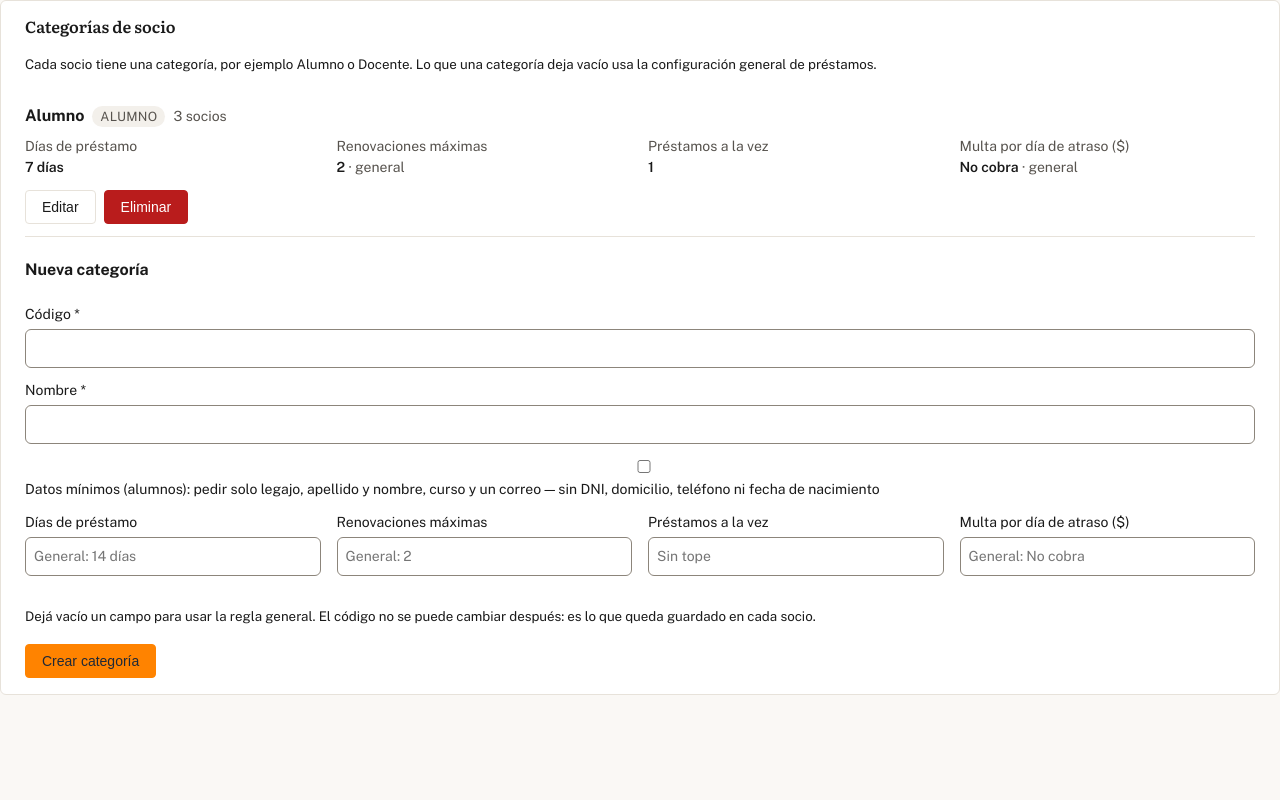
CategoriasSocios › no intenta borrar una categoría que tiene socios: explica qué hacer
Expected: the text "3 socios" is shown, [173,106,227,127]
Click the button with aria-label "Eliminar Alumno" at (146, 207), box [104,190,188,224]
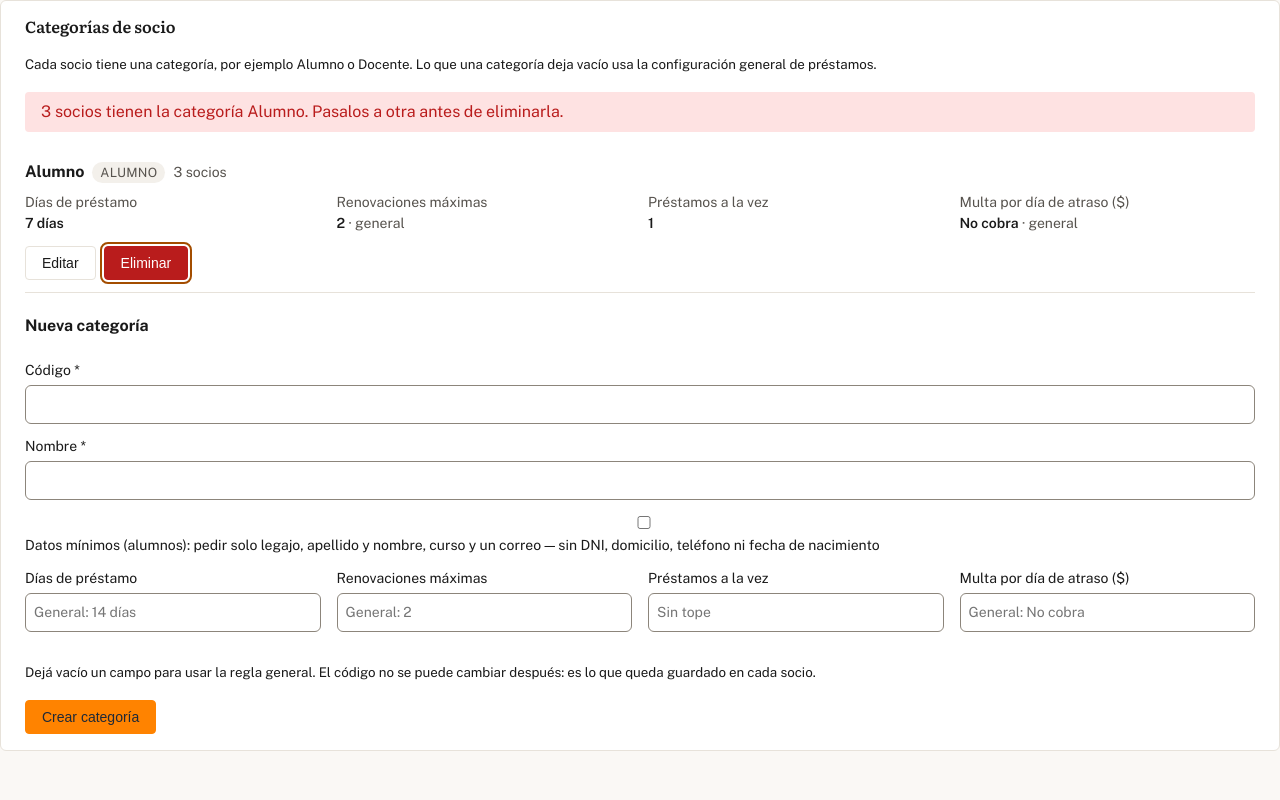
Now the message shows "3 socios tienen la categoría Alumno", box [41,102,563,121]
